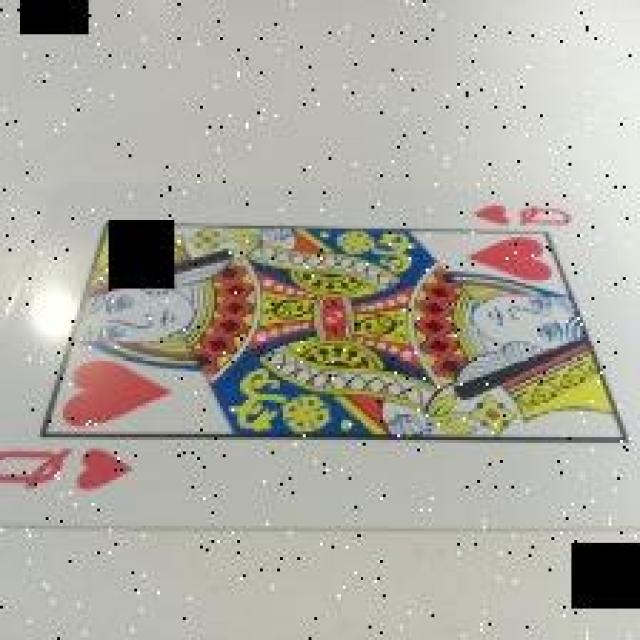Queen of hearts: (0, 180, 634, 525)
